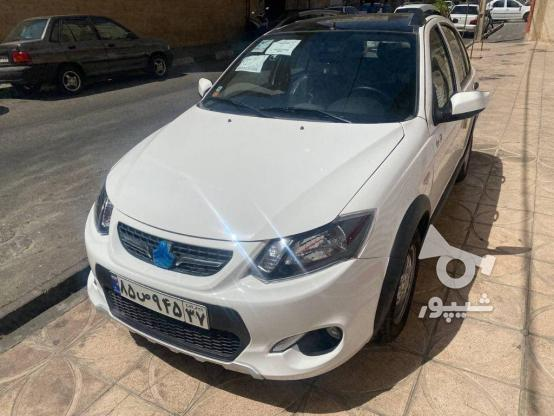car: (107, 272, 209, 332)
